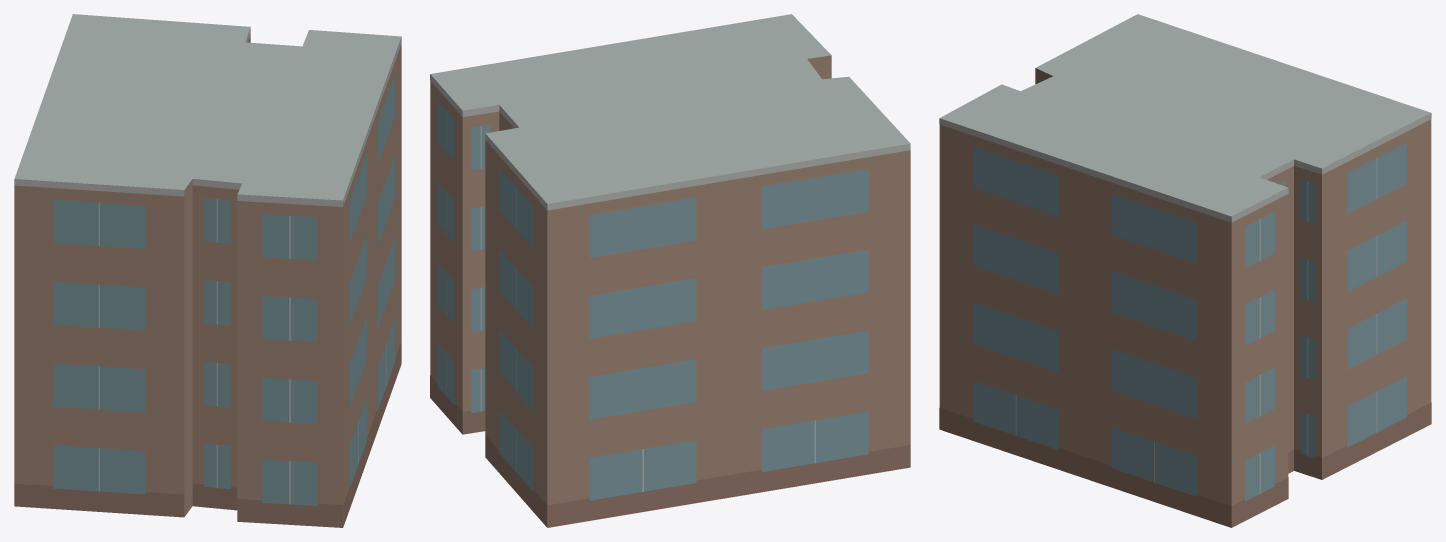
Rendered from survey-upis-32883447.glb.
The picture shows the model from 3 angles, left to right: view 1: azimuth 30°, elevation 25°; view 2: azimuth 150°, elevation 25°; view 3: azimuth 270°, elevation 25°; orthographic projection. The views are drawn at different scales.
Visible parts, largest first — view 1: survey-upis-32883447.tmp; view 2: survey-upis-32883447.tmp; view 3: survey-upis-32883447.tmp.
Part boxes in pixels (x1,y1,x2,y2): survey-upis-32883447.tmp: (14,14,401,527); survey-upis-32883447.tmp: (430,14,910,527); survey-upis-32883447.tmp: (939,14,1431,527).
Size of the model in its own units: 17.03 by 12.2 by 17.48.
